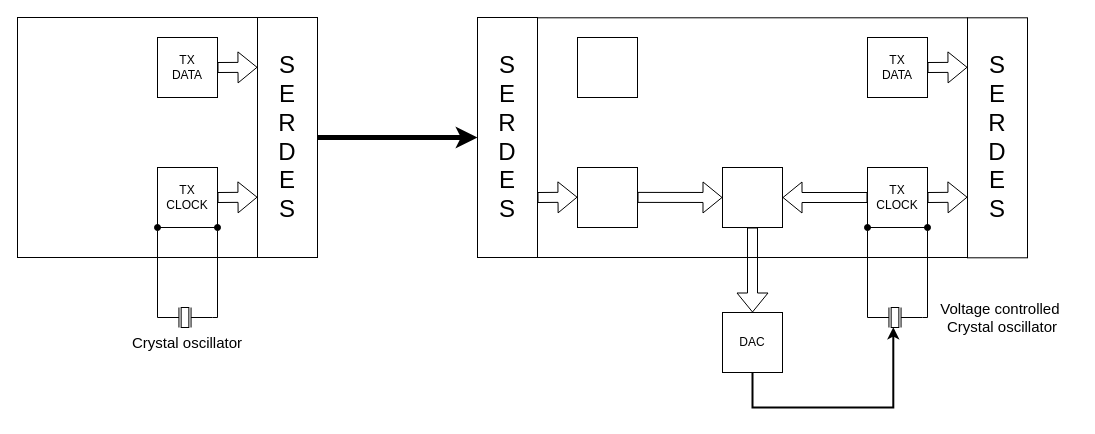
Image size: 1095x434. Some labels were removed from this diagram. Each missing label, with the centre of its shape:
PLL: point 752,197
RX CLOCK: point 607,197
RX DATA: point 607,67
